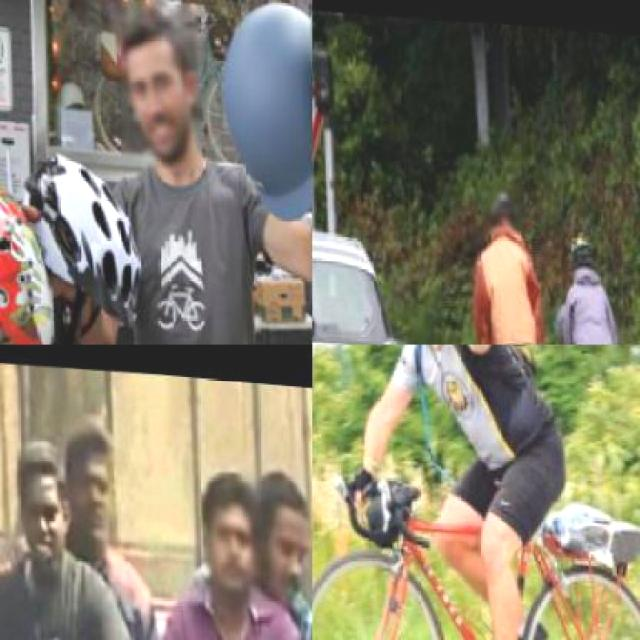With Helmet: (478, 172, 524, 231), (561, 216, 602, 275)
Without Helmet: (111, 0, 203, 166), (249, 449, 311, 603), (10, 431, 75, 567), (198, 462, 260, 602), (62, 406, 118, 556)
